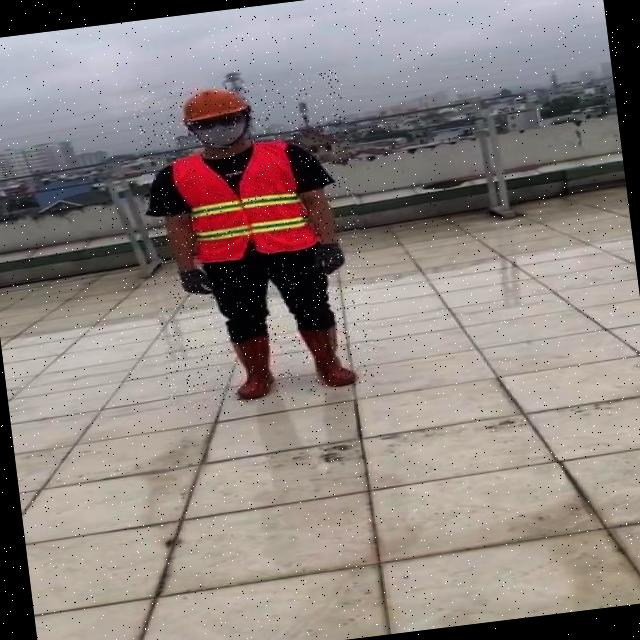boots: (296, 323, 357, 392), (224, 336, 285, 402)
helmet: (174, 83, 252, 125)
vest: (166, 137, 318, 266)
